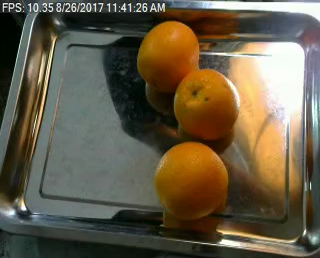Orange: (154, 140, 227, 219), (172, 70, 239, 140), (136, 20, 199, 90)
